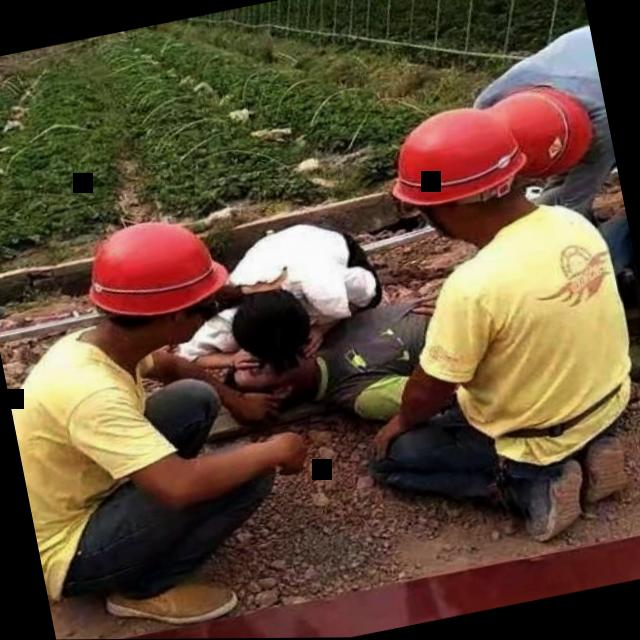Fall-Detected: (222, 268, 498, 476)
